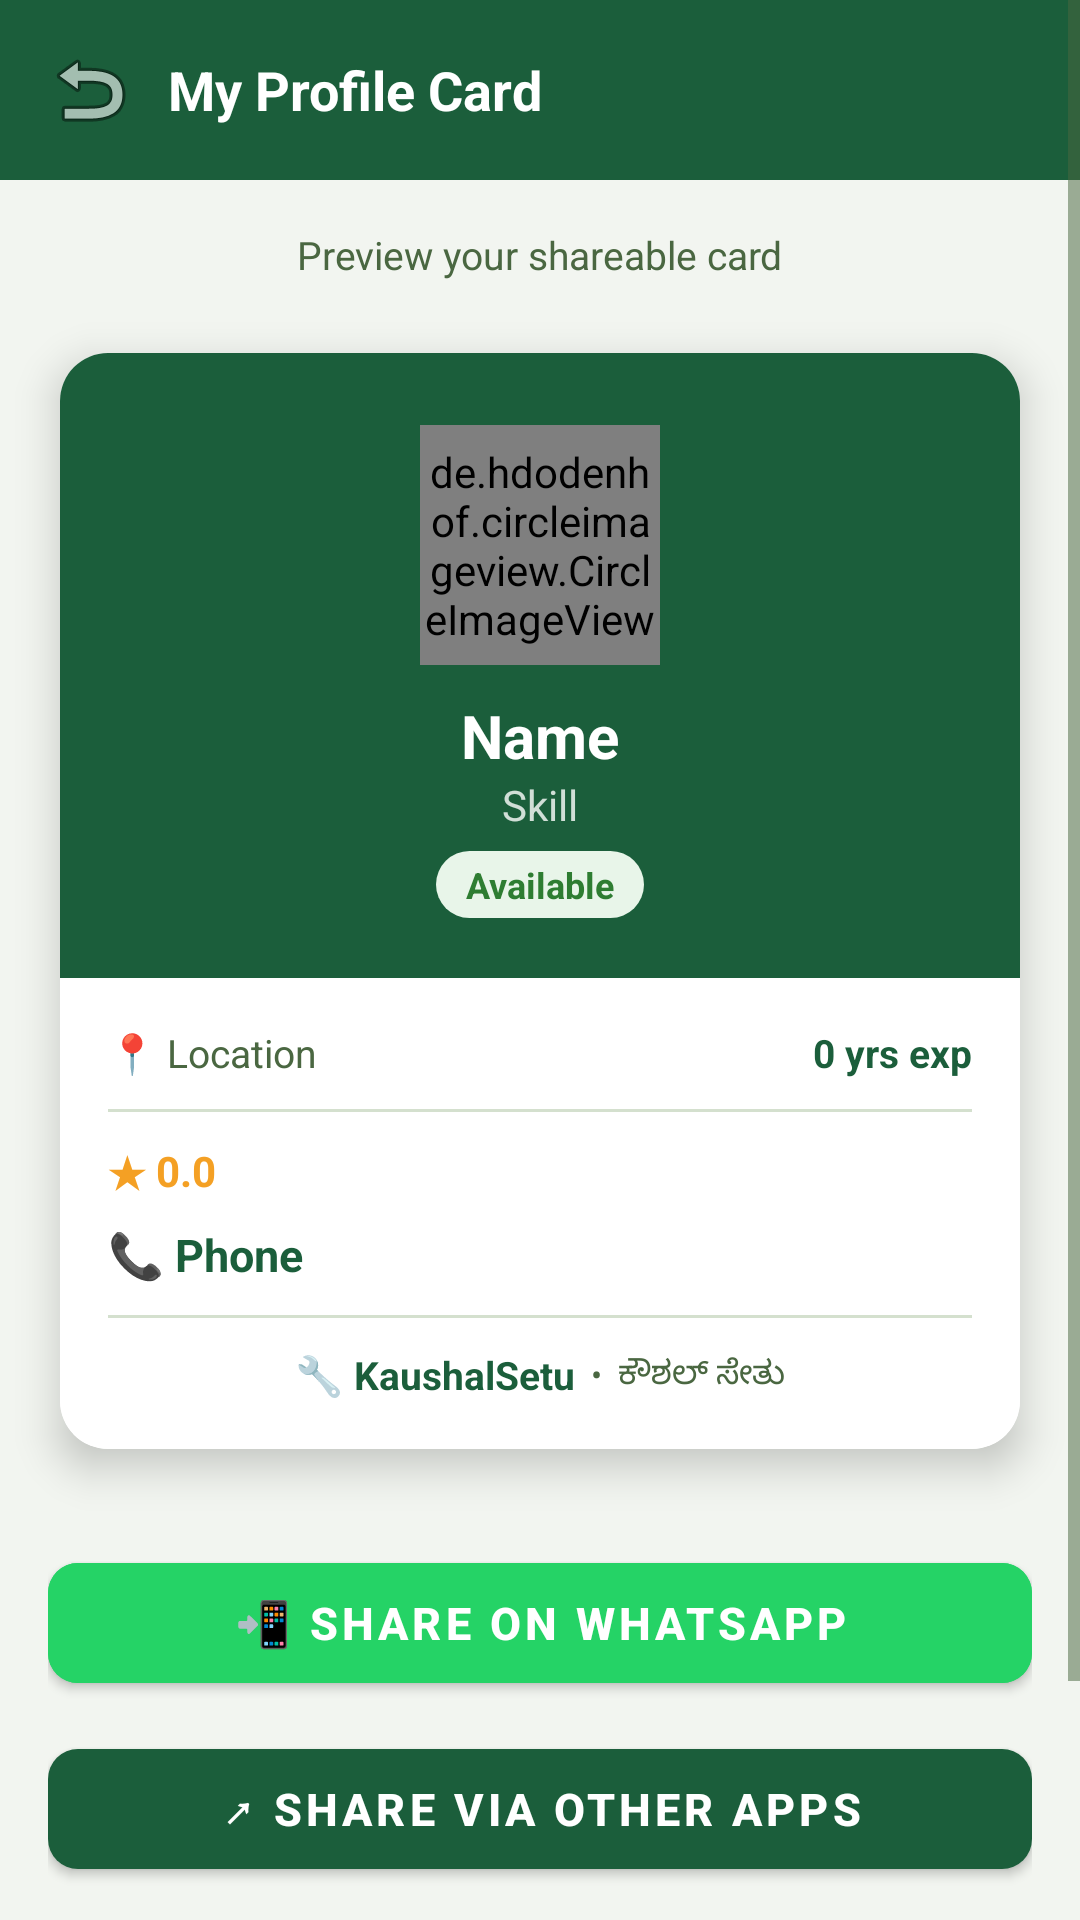

Named icons in this screenshot (1080 × 1920) and their centers, (x=x, y=y):
revert: (x=91, y=91)
